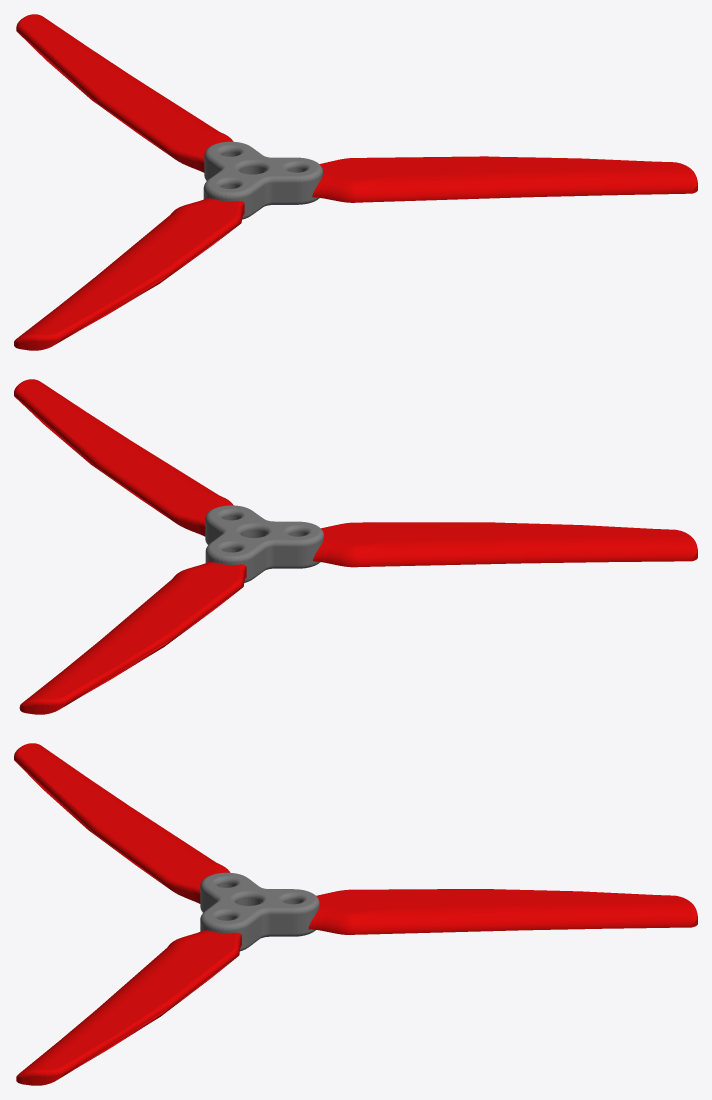
Rendered from propeller.dae.
3 renders of one model, top to bottom at view 1: azimuth 30°, elevation 25°; view 2: azimuth 150°, elevation 25°; view 3: azimuth 270°, elevation 25°, orthographic.
Visible parts, largest first — view 1: propeller_scaled; view 2: propeller_scaled; view 3: propeller_scaled.
Part boxes in pixels (bbox=[...]): propeller_scaled: bbox=[14, 14, 697, 350]; propeller_scaled: bbox=[14, 379, 697, 714]; propeller_scaled: bbox=[14, 743, 697, 1085].
Bounding box in the file's own units: 0.1563 × 0.1353 × 0.00628.
